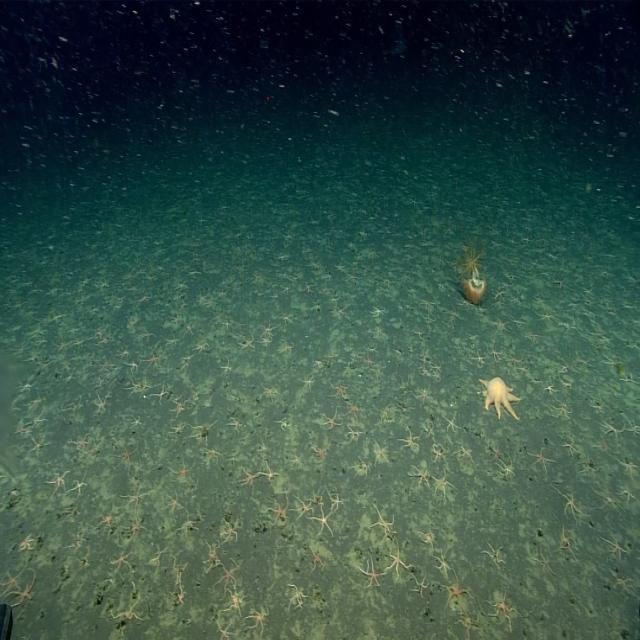brittle-stars: (0, 558, 27, 600), (557, 488, 585, 523), (13, 572, 37, 609), (490, 591, 514, 626), (446, 575, 470, 610), (304, 481, 329, 513), (122, 484, 150, 512), (386, 546, 408, 581), (64, 528, 89, 558), (360, 557, 383, 588), (571, 347, 596, 374), (268, 496, 290, 526), (374, 509, 396, 539), (91, 270, 114, 298), (217, 562, 237, 594), (115, 600, 141, 624), (247, 607, 269, 635), (458, 611, 480, 639), (60, 496, 82, 524), (75, 546, 94, 578), (313, 508, 333, 538), (603, 534, 626, 560), (484, 542, 506, 569), (529, 447, 552, 472), (596, 486, 618, 512), (558, 528, 576, 559), (612, 570, 636, 593), (170, 457, 192, 482), (110, 550, 132, 574), (116, 445, 138, 468), (532, 551, 553, 575), (434, 471, 454, 496), (411, 463, 431, 488), (287, 584, 306, 610), (326, 344, 344, 371), (600, 418, 623, 439), (286, 448, 306, 472), (208, 304, 226, 330), (192, 421, 214, 442), (49, 472, 70, 494), (126, 517, 147, 539), (120, 310, 141, 332), (587, 397, 608, 419), (222, 520, 241, 544), (399, 429, 419, 451), (412, 572, 430, 596), (99, 506, 116, 531), (295, 496, 315, 517), (618, 484, 638, 505), (430, 274, 450, 295), (228, 591, 247, 613), (206, 543, 221, 570), (29, 436, 49, 456), (353, 456, 371, 478), (180, 514, 198, 536), (374, 441, 391, 464), (61, 361, 78, 384), (321, 411, 340, 431), (594, 436, 612, 457), (166, 491, 183, 513), (22, 348, 39, 370), (332, 303, 349, 325), (240, 467, 259, 486), (310, 548, 325, 572), (172, 560, 187, 584), (346, 400, 363, 421), (71, 476, 88, 497), (437, 552, 453, 574), (220, 313, 236, 335), (414, 385, 432, 404), (553, 403, 572, 421), (561, 438, 578, 458), (312, 442, 329, 462), (216, 620, 233, 640), (620, 461, 640, 478), (582, 458, 599, 478), (148, 549, 164, 570), (19, 534, 37, 552), (72, 436, 90, 454), (65, 402, 84, 419), (444, 413, 460, 433), (498, 458, 514, 478), (88, 441, 104, 461), (263, 384, 281, 401), (204, 447, 222, 464), (262, 462, 279, 480), (30, 412, 47, 430), (328, 491, 343, 511), (625, 418, 640, 438), (346, 425, 363, 442), (230, 416, 246, 434), (332, 382, 348, 400), (98, 356, 114, 374), (26, 395, 42, 413), (490, 294, 508, 310), (309, 352, 322, 374), (488, 343, 503, 362), (605, 355, 624, 370), (96, 392, 110, 412), (262, 319, 278, 336), (144, 352, 160, 369), (170, 420, 187, 436), (14, 420, 29, 438), (155, 383, 169, 402), (268, 286, 280, 308), (446, 306, 462, 322), (172, 398, 187, 415), (458, 446, 473, 463), (19, 379, 36, 394), (536, 310, 554, 324), (174, 586, 186, 607), (421, 529, 435, 547), (542, 379, 556, 397), (422, 421, 436, 439), (380, 404, 392, 425), (310, 297, 323, 316), (220, 356, 232, 376), (301, 376, 316, 392), (57, 338, 72, 354), (510, 314, 527, 328), (494, 316, 508, 333), (183, 318, 196, 336), (139, 327, 154, 342), (276, 417, 291, 432), (525, 330, 541, 344), (620, 372, 636, 386), (432, 444, 444, 462), (241, 336, 255, 351), (507, 353, 521, 368), (280, 341, 294, 356), (127, 379, 141, 394), (127, 358, 140, 374), (97, 334, 111, 348), (281, 312, 295, 326), (372, 327, 386, 341), (372, 306, 387, 319), (472, 350, 485, 365), (196, 342, 211, 355), (491, 445, 504, 460), (627, 342, 640, 357), (492, 288, 508, 300), (361, 631, 382, 640), (167, 334, 180, 348), (260, 336, 274, 349), (346, 271, 359, 285), (197, 289, 210, 303), (138, 291, 152, 304), (560, 378, 573, 392), (362, 352, 373, 368), (187, 267, 200, 280), (330, 292, 343, 305), (175, 280, 189, 292), (421, 299, 435, 311), (553, 277, 567, 289), (257, 442, 269, 456), (170, 313, 182, 327), (414, 326, 426, 340), (558, 360, 570, 374), (280, 484, 292, 498), (423, 314, 436, 326), (217, 286, 228, 300), (534, 294, 546, 306), (74, 338, 86, 350), (128, 282, 140, 294), (236, 318, 247, 331), (118, 346, 129, 359), (305, 283, 316, 296), (96, 376, 107, 389), (420, 363, 430, 377), (140, 379, 150, 393), (132, 416, 143, 428), (281, 283, 293, 294), (277, 270, 288, 282), (629, 316, 640, 328), (336, 262, 347, 273), (431, 360, 441, 372), (182, 352, 192, 364), (520, 362, 530, 374), (290, 274, 300, 286), (252, 272, 262, 284), (320, 285, 330, 296)
